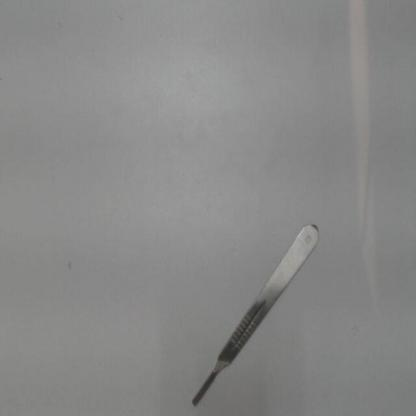No.4 BP Handle: (181, 214, 332, 414)
